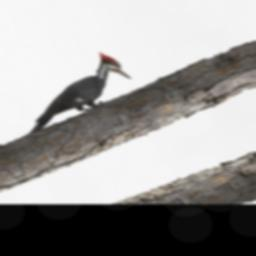Woodpecker: (0, 48, 141, 135)
